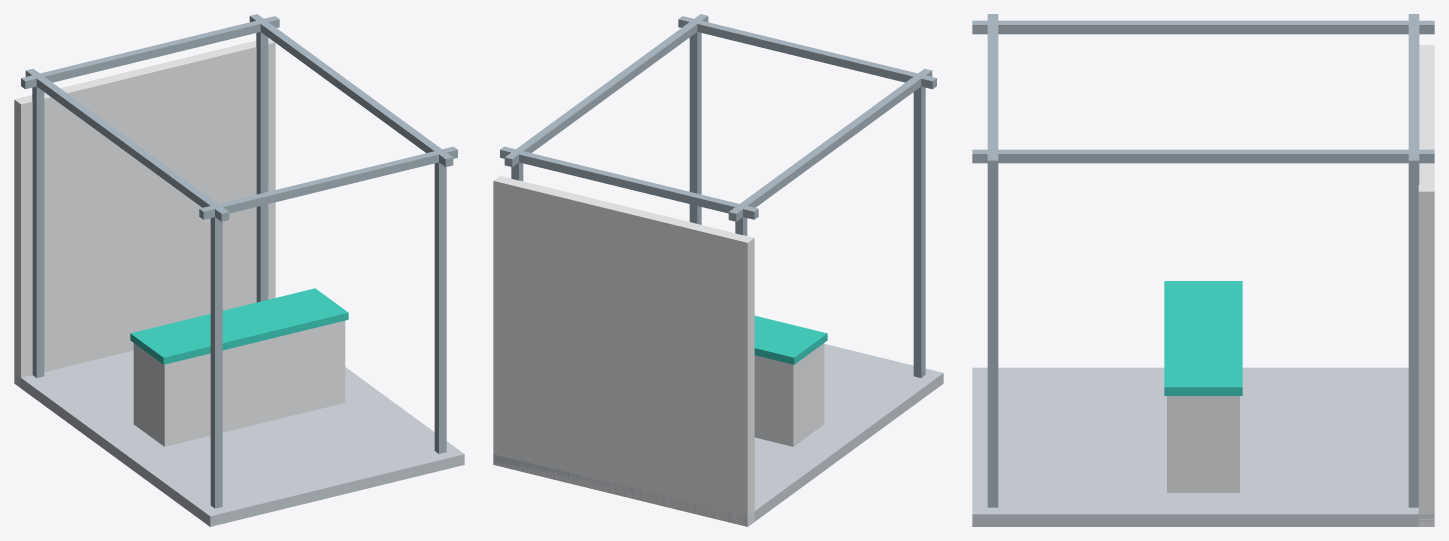
The picture shows the model from 3 angles, left to right: view 1: azimuth 30°, elevation 25°; view 2: azimuth 150°, elevation 25°; view 3: azimuth 270°, elevation 25°; orthographic projection. The views are drawn at different scales.
Parts seen in each view (by area): view 1: Exhibition Booth Concept; view 2: Exhibition Booth Concept; view 3: Exhibition Booth Concept.
Boxes of the visible parts, box(x1,y1,x2,y2) form: Exhibition Booth Concept: box(14, 14, 464, 526); Exhibition Booth Concept: box(493, 14, 943, 526); Exhibition Booth Concept: box(972, 14, 1434, 526).
Size of the model in its own units: 3 by 3.49 by 4.
